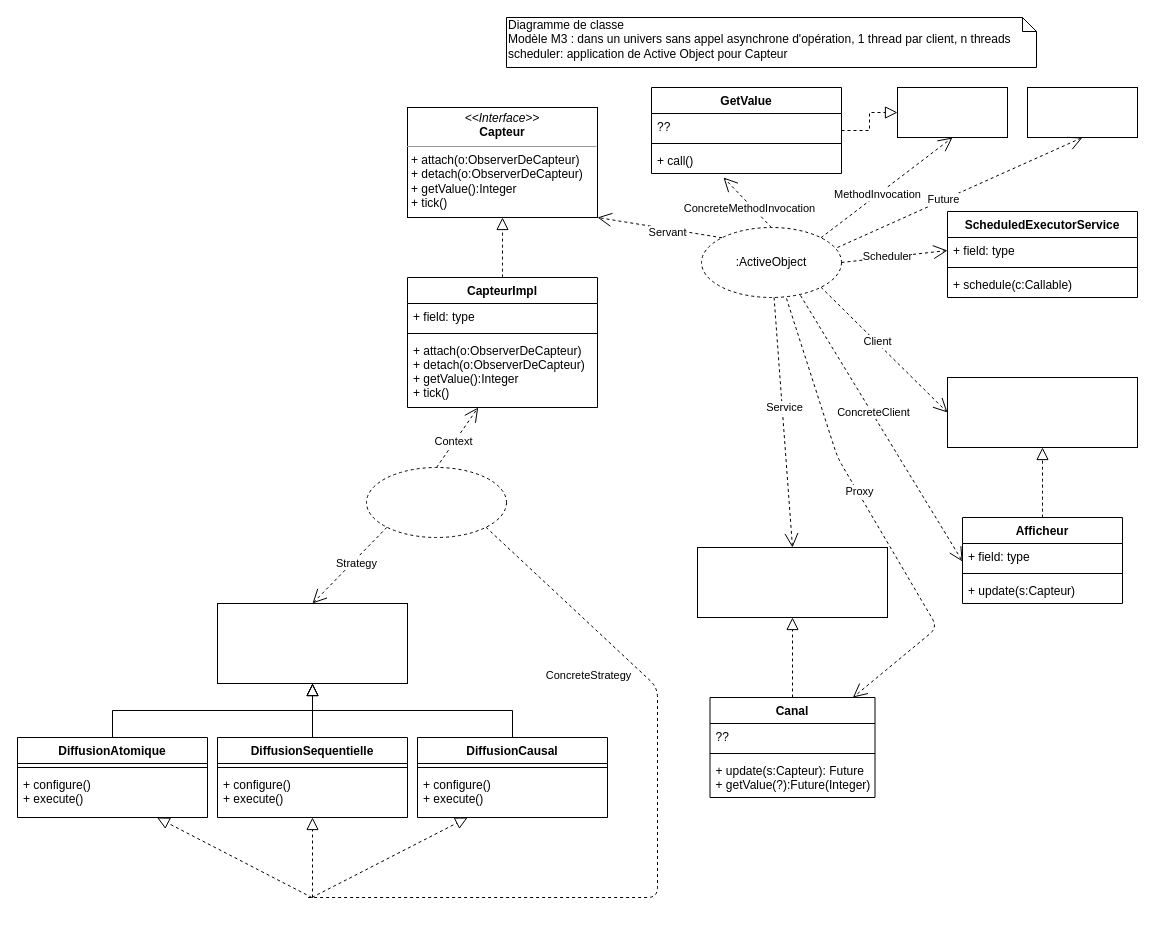
Some shapes in this 1155 by 927 pixel diagram are drawn without their labels. The centre of each missing label's shape, as x and y in pixels:
":Strategy" goes at [436,502].
"<<Interface>> AlgoDiffusion + configure() + execute()" goes at [312,643].
"<<Interface>> CapteurAsync + getValue(?): Future(Integer)" goes at [792,582].
"<<Interface>> ObserverDeCapteur + update(s:Capteur)" goes at [1042,412].
"«interface» Callable" goes at [952,112].
"«interface» Future" goes at [1082,112].
